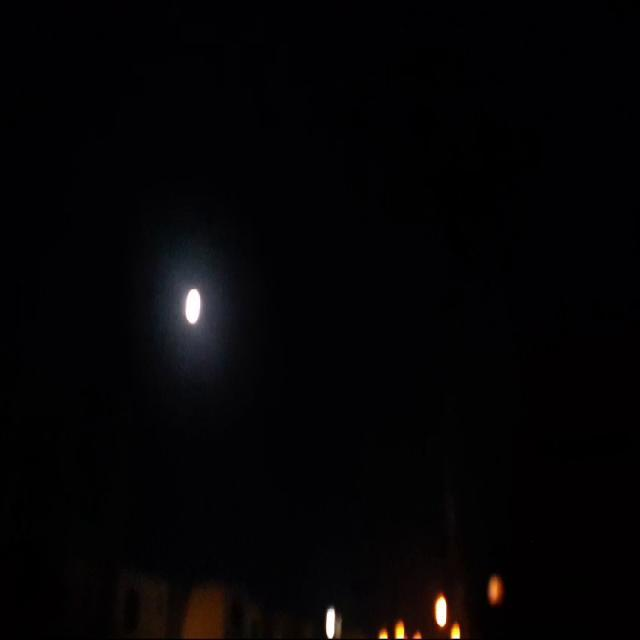moon: (182, 286, 203, 324)
